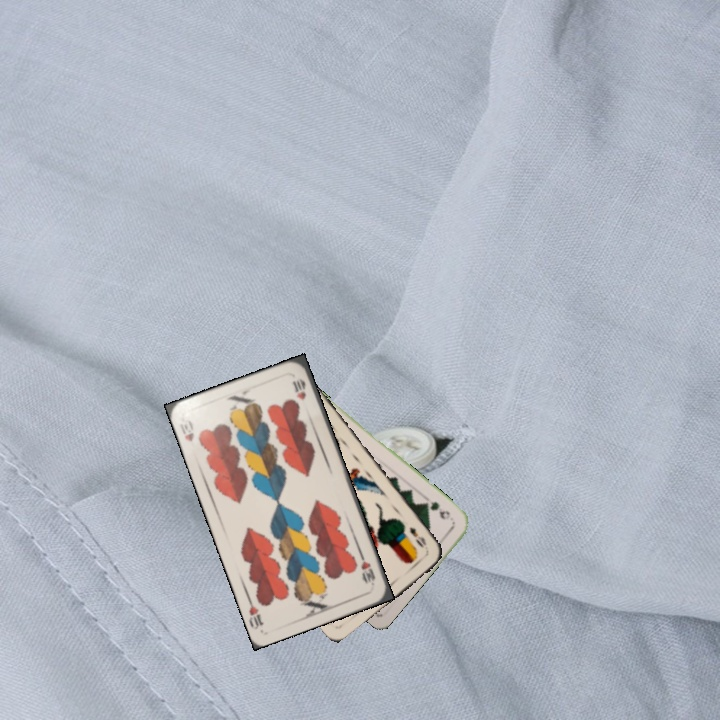EO: (405, 523, 429, 551)
G9: (426, 497, 453, 522)
H10: (356, 549, 378, 588), (176, 414, 197, 444)
